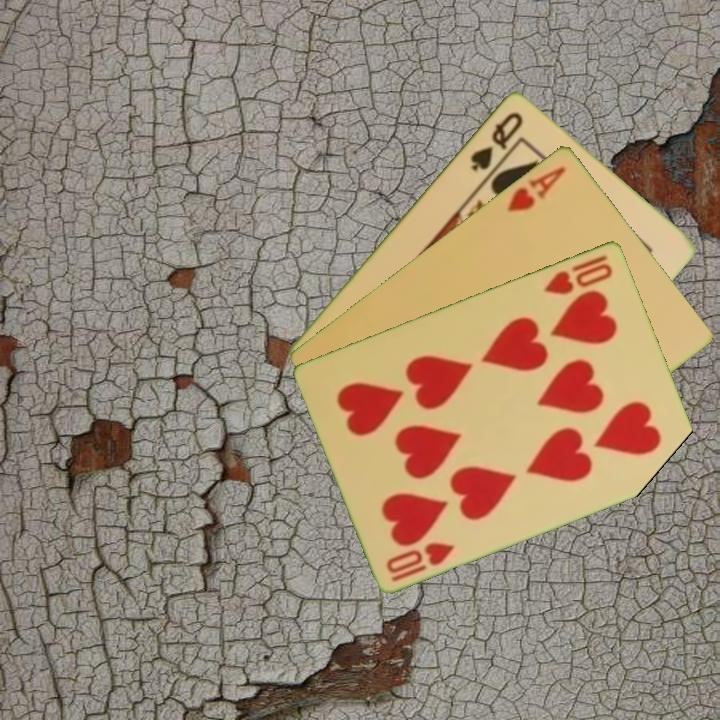10h: (382, 538, 458, 584), (540, 259, 616, 297)
Ah: (503, 162, 569, 214)
Qs: (466, 107, 526, 174)
